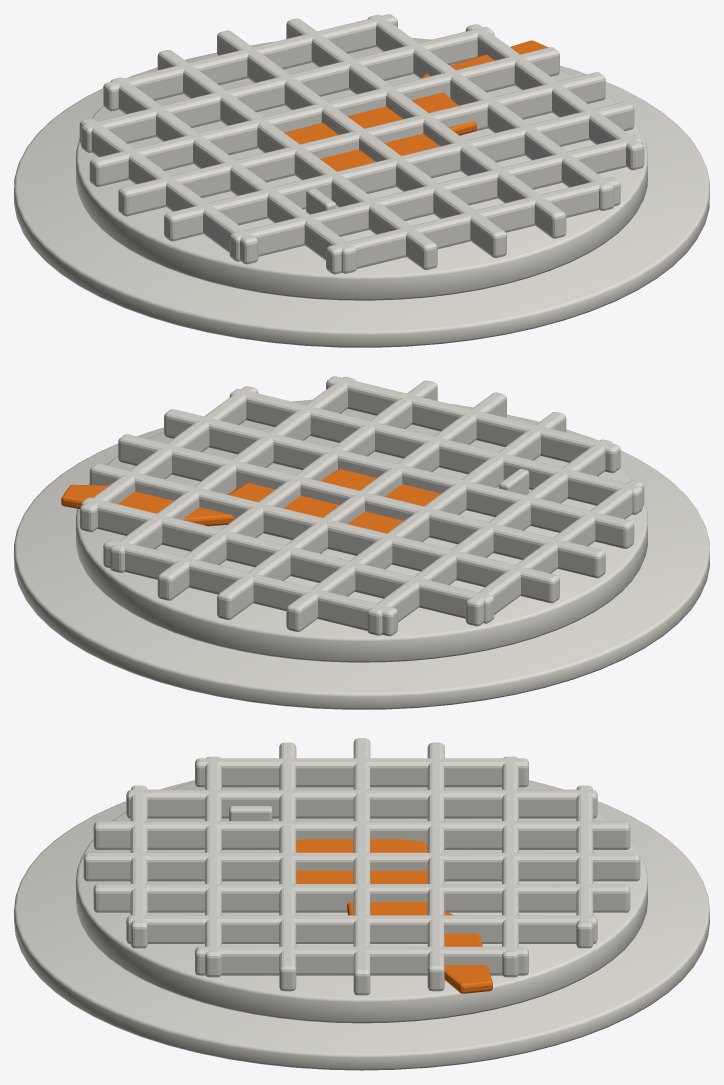
Rendered from waffle-agent.glb.
The picture shows the model from 3 angles, top to bottom: view 1: azimuth 30°, elevation 25°; view 2: azimuth 150°, elevation 25°; view 3: azimuth 270°, elevation 25°; orthographic projection.
Visible parts, largest first — view 1: plain_plate, waffle_base, waffle_rib_x_-1, waffle_rib_x_0, waffle_rib_x_1, waffle_rib_x_-2, waffle_rib_x_2, waffle_rib_y_0, waffle_rib_y_-1, waffle_rib_x_-3, waffle_rib_y_1, waffle_rib_x_3 (+6 smaller); view 2: plain_plate, waffle_base, waffle_rib_x_0, waffle_rib_x_-1, waffle_rib_x_1, waffle_rib_x_2, waffle_rib_x_-2, waffle_rib_y_0, waffle_rib_y_-1, waffle_rib_x_3, waffle_rib_y_1, waffle_rib_x_-3 (+6 smaller); view 3: plain_plate, waffle_base, waffle_rib_y_0, waffle_rib_y_1, waffle_rib_y_-1, waffle_rib_y_-2, waffle_rib_y_2, waffle_rib_y_-3, waffle_rib_y_3, glazed_syrup, waffle_rib_x_0, waffle_rib_x_-1 (+6 smaller).
Part boxes in pixels (x1=…): plain_plate: x1=14, y1=53, x2=709, y2=347; waffle_base: x1=76, y1=37, x2=647, y2=300; waffle_rib_x_-1: x1=164, y1=101, x2=634, y2=241; waffle_rib_x_0: x1=118, y1=72, x2=605, y2=216; waffle_rib_x_1: x1=89, y1=47, x2=559, y2=186; waffle_rib_x_-2: x1=229, y1=135, x2=642, y2=261; waffle_rib_x_2: x1=81, y1=27, x2=494, y2=152; waffle_rib_y_0: x1=217, y1=30, x2=506, y2=257; waffle_rib_y_-1: x1=157, y1=50, x2=437, y2=269; waffle_rib_x_-3: x1=326, y1=177, x2=620, y2=274; waffle_rib_y_1: x1=286, y1=18, x2=566, y2=238; waffle_rib_x_3: x1=103, y1=14, x2=397, y2=111; plain_plate: x1=14, y1=415, x2=709, y2=709; waffle_base: x1=76, y1=399, x2=647, y2=662; waffle_rib_x_0: x1=118, y1=434, x2=605, y2=578; waffle_rib_x_-1: x1=164, y1=409, x2=634, y2=548; waffle_rib_x_1: x1=89, y1=463, x2=559, y2=603; waffle_rib_x_2: x1=81, y1=497, x2=494, y2=623; waffle_rib_x_-2: x1=229, y1=389, x2=642, y2=514; waffle_rib_y_0: x1=217, y1=392, x2=506, y2=619; waffle_rib_y_-1: x1=286, y1=412, x2=566, y2=631; waffle_rib_x_3: x1=103, y1=539, x2=397, y2=636; waffle_rib_y_1: x1=157, y1=380, x2=437, y2=600; waffle_rib_x_-3: x1=326, y1=376, x2=620, y2=473; plain_plate: x1=14, y1=780, x2=709, y2=1070; waffle_base: x1=76, y1=781, x2=647, y2=1023; waffle_rib_y_0: x1=83, y1=852, x2=640, y2=881; waffle_rib_y_1: x1=93, y1=884, x2=630, y2=912; waffle_rib_y_-1: x1=93, y1=821, x2=630, y2=849; waffle_rib_y_-2: x1=126, y1=789, x2=597, y2=818; waffle_rib_y_2: x1=126, y1=915, x2=597, y2=943; waffle_rib_y_-3: x1=195, y1=758, x2=528, y2=787; waffle_rib_y_3: x1=195, y1=946, x2=528, y2=975; glazed_syrup: x1=296, y1=839, x2=492, y2=993; waffle_rib_x_0: x1=353, y1=738, x2=370, y2=995; waffle_rib_x_-1: x1=279, y1=742, x2=296, y2=991.
Size of the model in its own units: 0.45 by 0.05 by 0.45.
